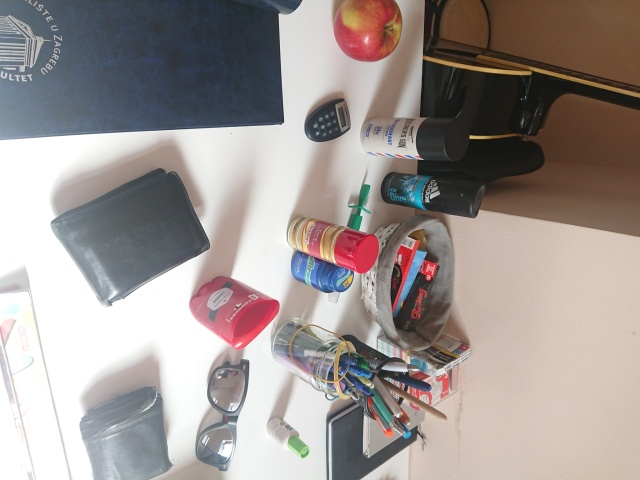Kotanyi Curry Spices Mix 70g: (283, 212, 382, 276)
